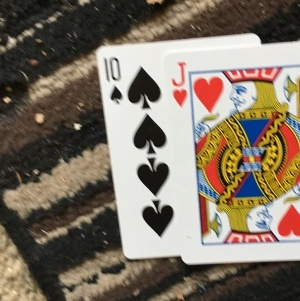card: (96, 44, 176, 257)
